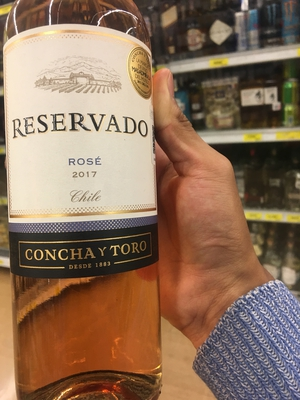reservado rose: (4, 3, 170, 400)
